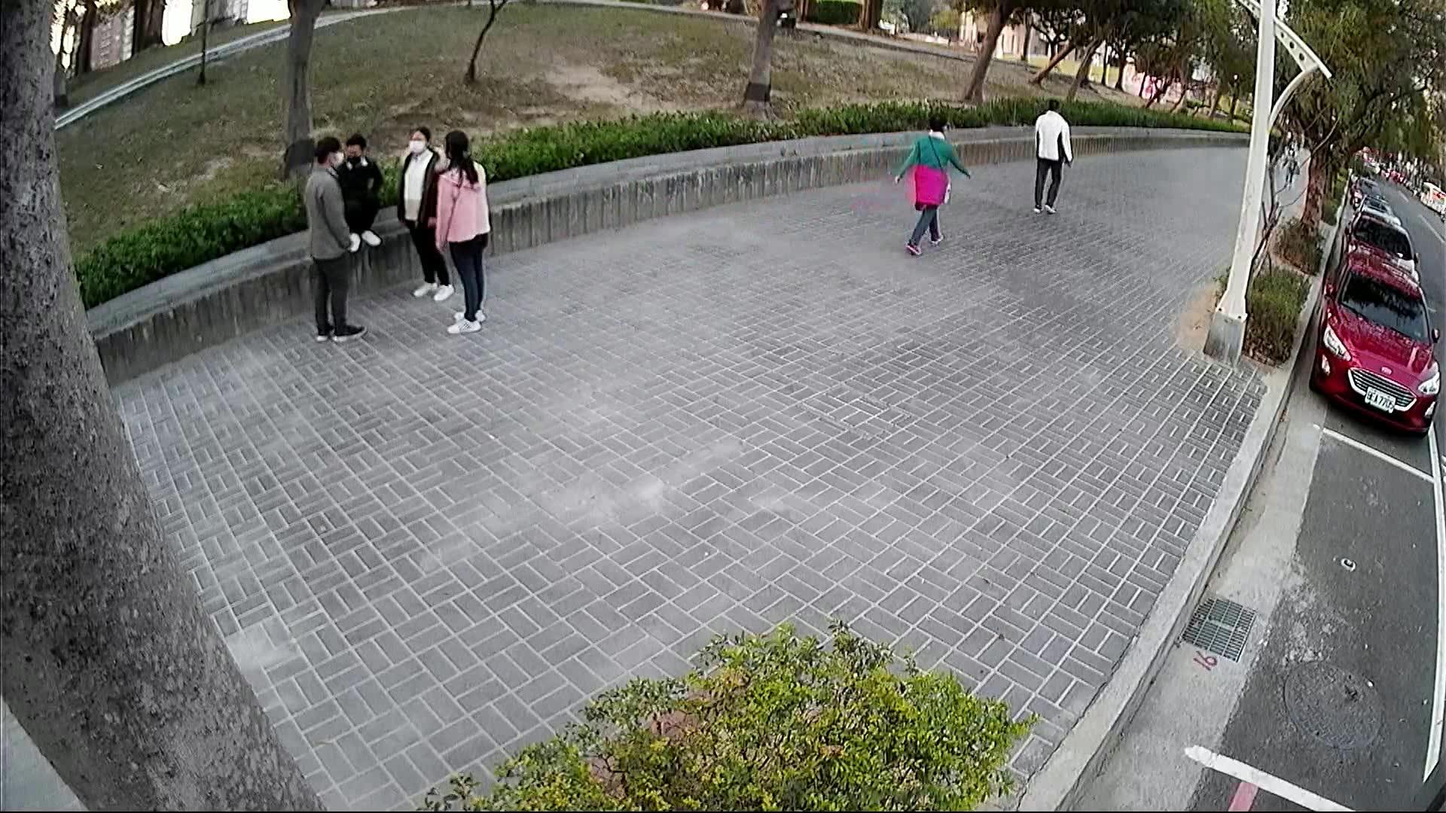person: (294, 128, 368, 343), (385, 118, 459, 301), (429, 124, 491, 339), (891, 109, 975, 256), (328, 129, 386, 253), (1025, 92, 1075, 215)
